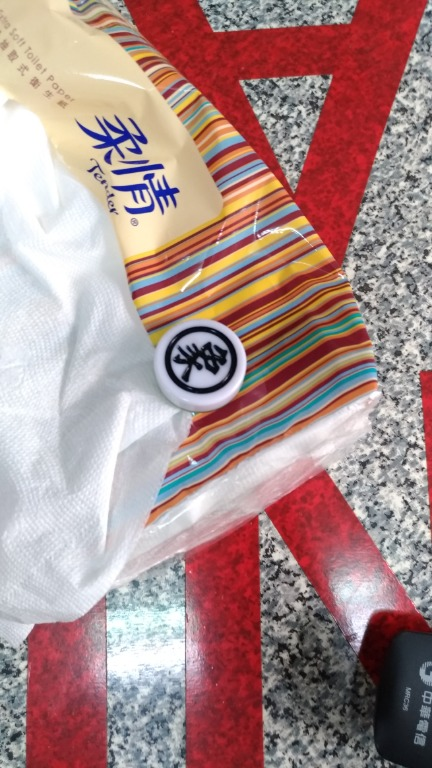b-elephant: (144, 314, 264, 417)
